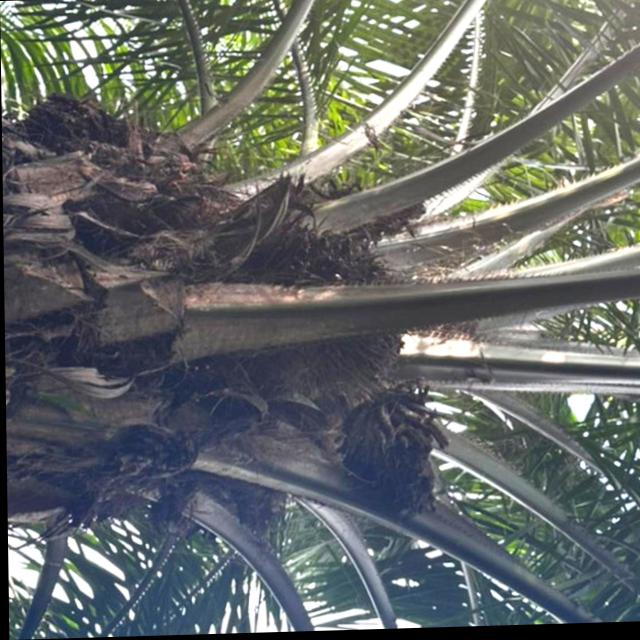almost: (246, 226, 412, 399)
